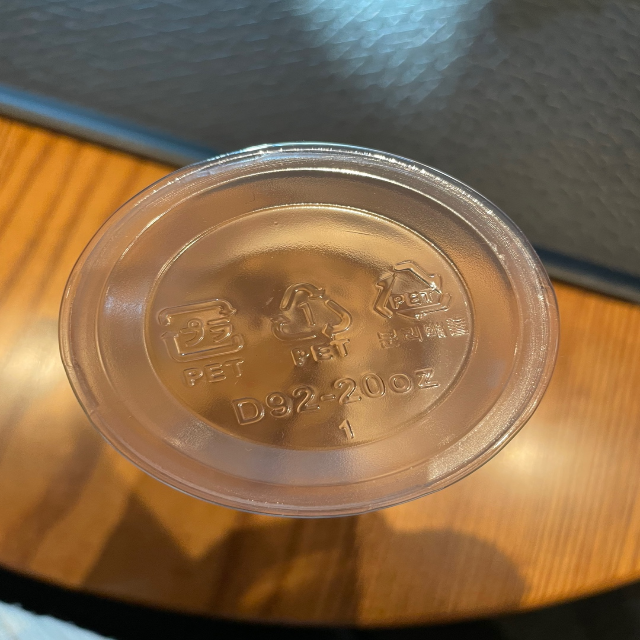pet: (367, 255, 471, 349), (152, 290, 250, 384), (269, 273, 353, 368)
